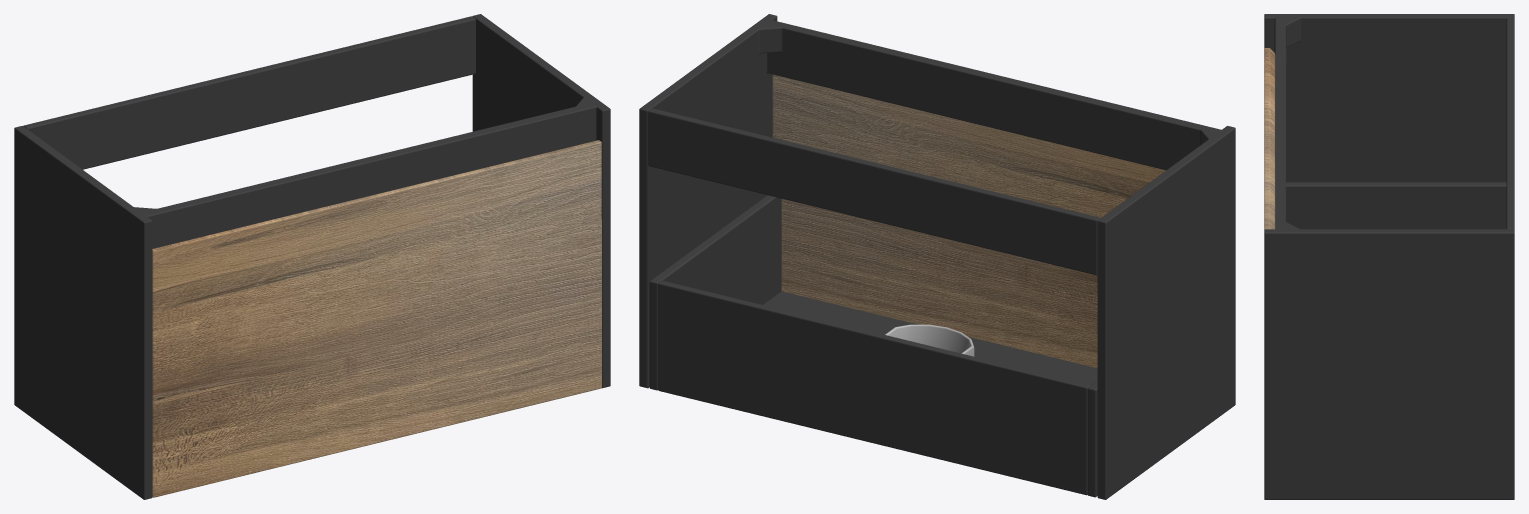
Rendered from Vanity-Cabinet-Hybrid-Walnut-800mm.glb.
3 views of the same model, side by side, from view 1: azimuth 30°, elevation 25°; view 2: azimuth 150°, elevation 25°; view 3: azimuth 270°, elevation 25° (orthographic). The views are drawn at different scales.
Visible parts, largest first — view 1: VC80 1.004; view 2: VC80 1.004; view 3: VC80 1.004.
Part boxes in pixels (x1=…): VC80 1.004: x1=14, y1=14, x2=610, y2=499; VC80 1.004: x1=639, y1=14, x2=1235, y2=499; VC80 1.004: x1=1264, y1=14, x2=1514, y2=499.
Bounding box in the file's own units: 0.8 × 0.455 × 0.386.
3 materials, 1 textured.
